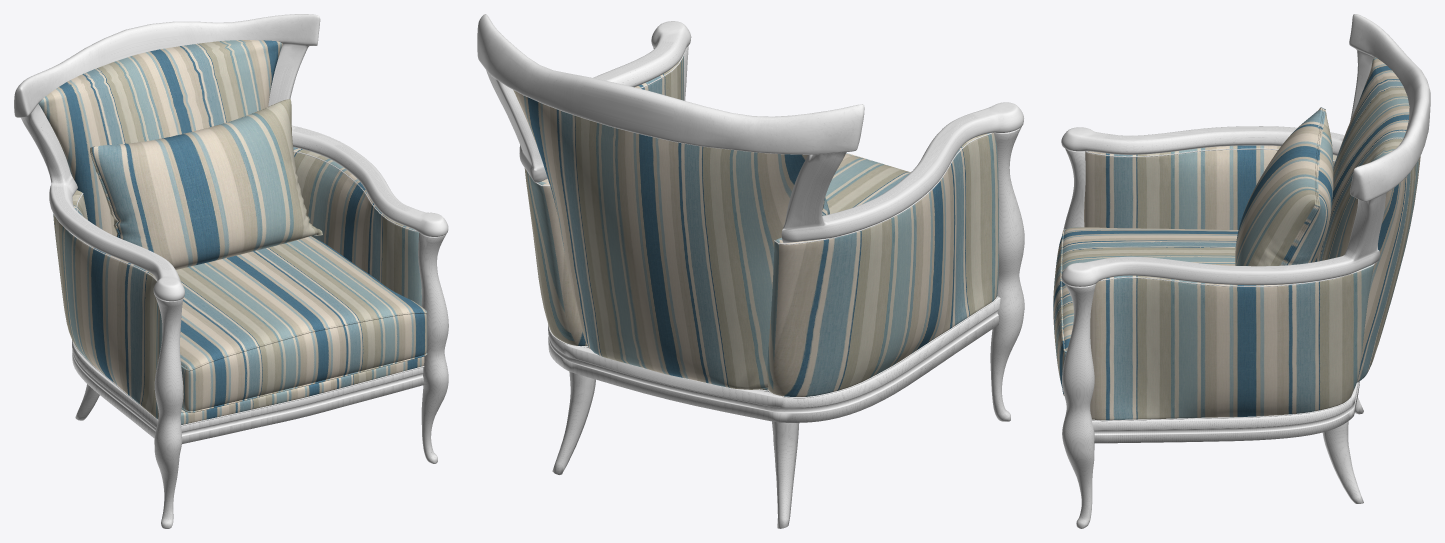
File: chair1.obj
The picture shows the model from 3 angles, left to right: view 1: azimuth 30°, elevation 25°; view 2: azimuth 150°, elevation 25°; view 3: azimuth 270°, elevation 25°; orthographic projection. The views are drawn at different scales.
Parts seen in each view (by area): view 1: Object01, Object05, Box02.001, Object03, Object02; view 2: Object01, Object02, Object03, Object05; view 3: Object03, Object01, Object02, Box02.001, Object05.
Boxes of the visible parts, <box> form: Object01: <box>14,14,448,528</box>; Object05: <box>176,236,427,424</box>; Box02.001: <box>90,99,322,269</box>; Object03: <box>53,147,421,419</box>; Object02: <box>38,40,282,236</box>; Object01: <box>477,14,1024,528</box>; Object02: <box>513,90,807,389</box>; Object03: <box>524,55,998,396</box>; Object05: <box>760,153,910,390</box>; Object03: <box>1084,145,1374,420</box>; Object01: <box>1061,14,1430,528</box>; Object02: <box>1315,57,1420,382</box>; Box02.001: <box>1235,107,1333,266</box>; Object05: <box>1053,227,1238,395</box>.
Bounding box in the file's own units: 5.69 × 6.25 × 5.8.
3 materials, 3 textured.
